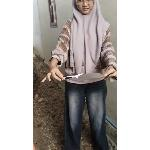Pisau: (59, 68, 107, 85)
